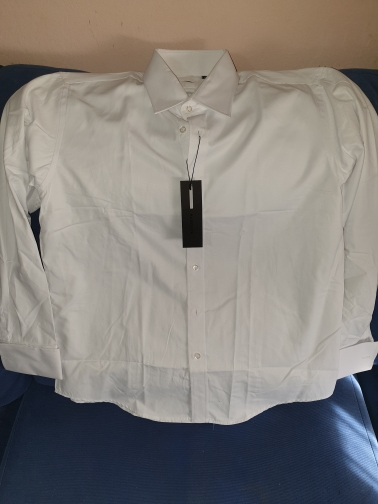shirts: (15, 49, 378, 419)
